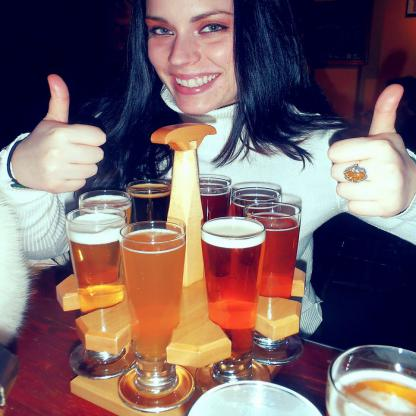drinking: (118, 220, 194, 413), (195, 216, 271, 396), (65, 206, 140, 380), (245, 202, 304, 364)
